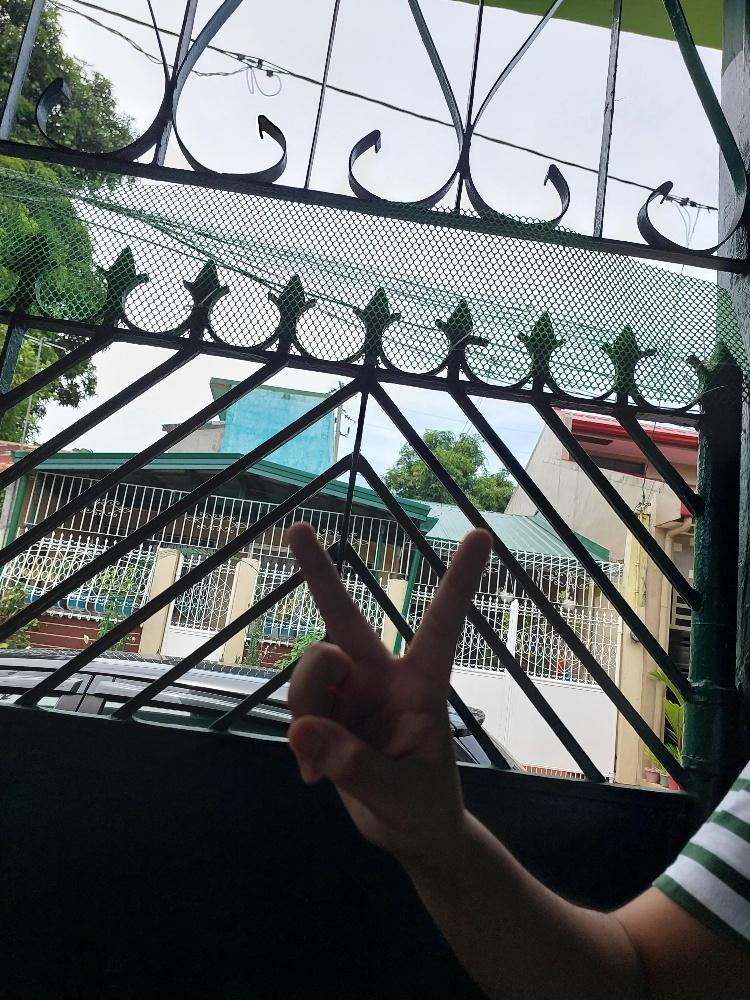v: (280, 518, 495, 856)
